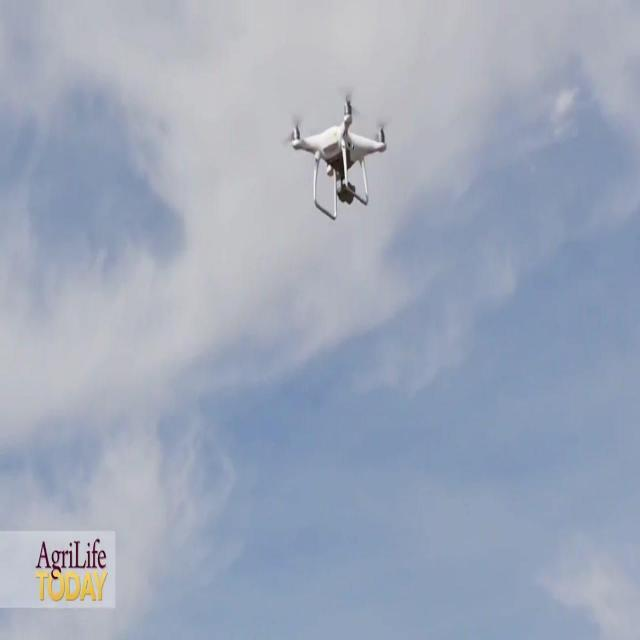UAV: (281, 84, 392, 220)
